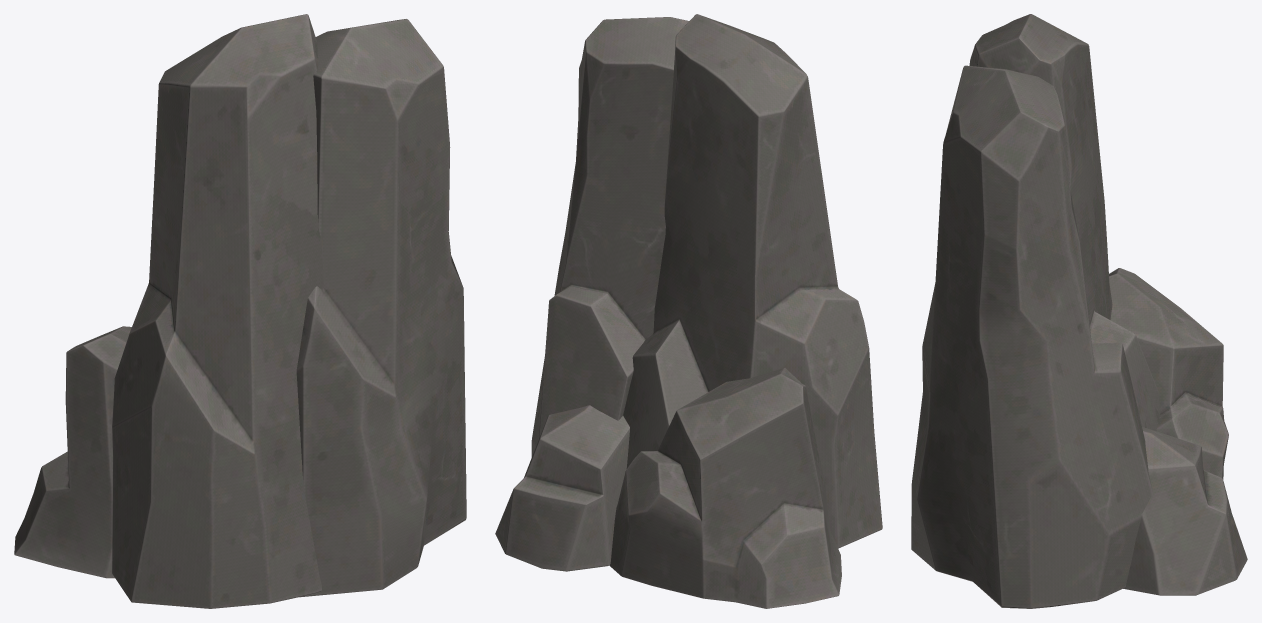
The model's file is Ap2Rock17Lod0.glb.
The picture shows the model from 3 angles, left to right: view 1: azimuth 30°, elevation 25°; view 2: azimuth 150°, elevation 25°; view 3: azimuth 270°, elevation 25°; orthographic projection. The views are drawn at different scales.
Parts seen in each view (by area): view 1: Rock17_LOD0; view 2: Rock17_LOD0; view 3: Rock17_LOD0.
Part boxes in pixels (box(x1,y1,x2,y2)): Rock17_LOD0: box(14, 14, 466, 608); Rock17_LOD0: box(495, 14, 882, 608); Rock17_LOD0: box(911, 14, 1247, 608).
Bounding box in the file's own units: 5.97 × 8.1 × 4.9.
Materials: 1 (1 with a texture image).
